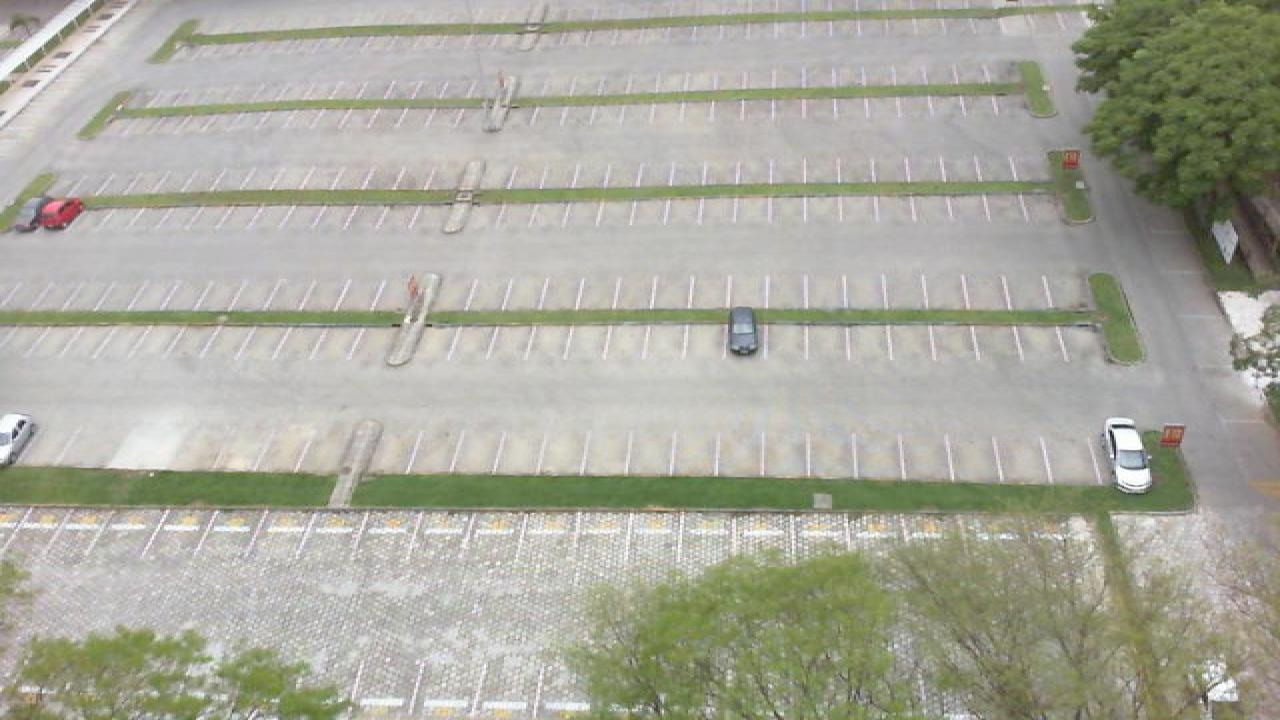Car: (1102, 417, 1152, 493), (28, 195, 84, 231), (0, 414, 36, 467), (726, 307, 762, 357)
